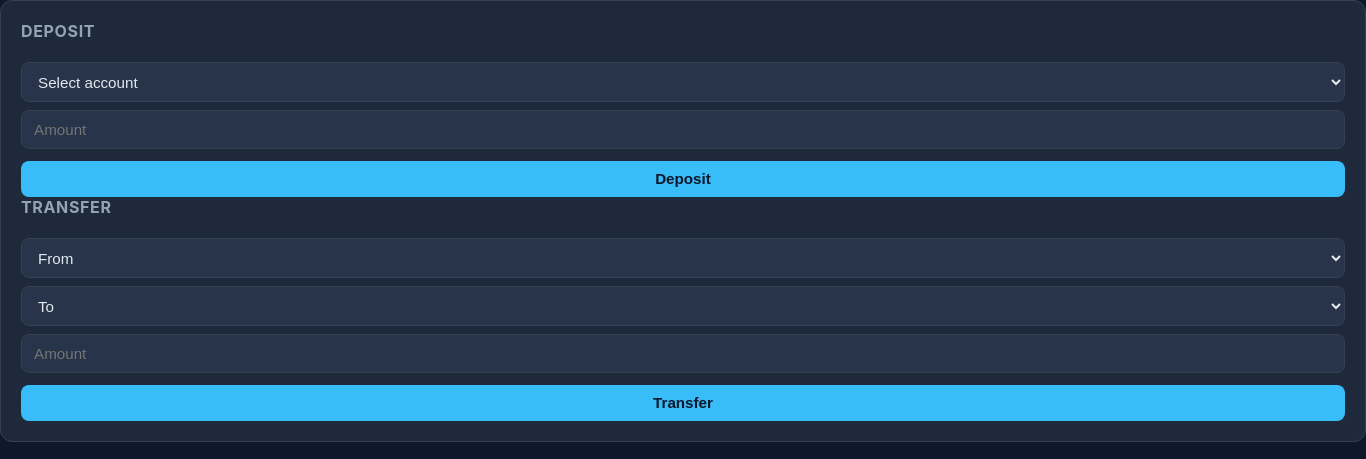
Test: ActionsPanel › deposit › deposits the amount into the selected account and clears the amount
Select "Bob" in the dropdown named "Account to deposit into" at [683, 82], box [21,62,1345,102]
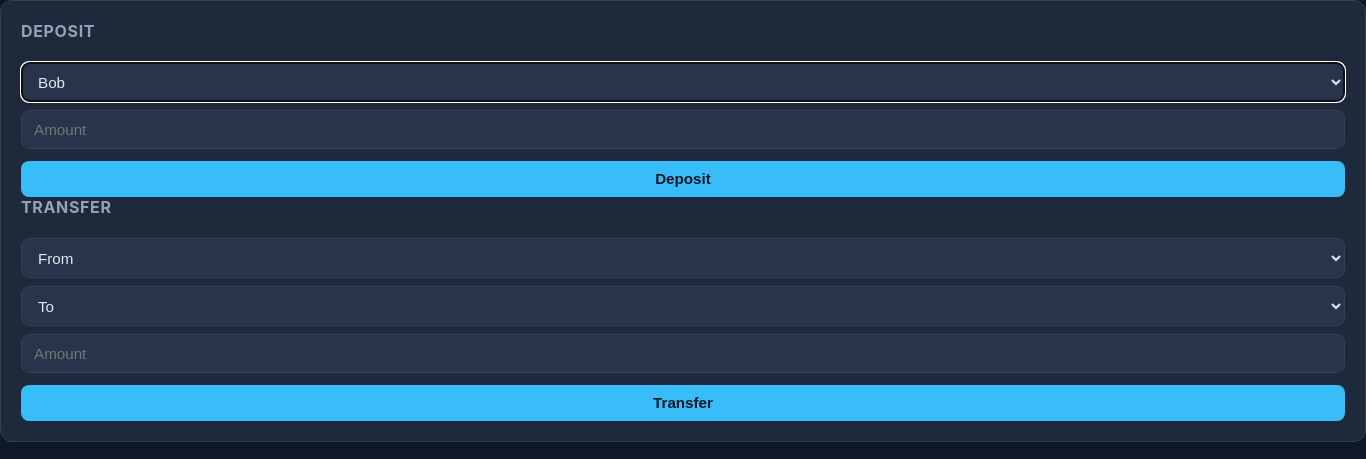
Type "25.50" into the 1st number field with placeholder "Amount" at [683, 130], box [21,110,1345,149]
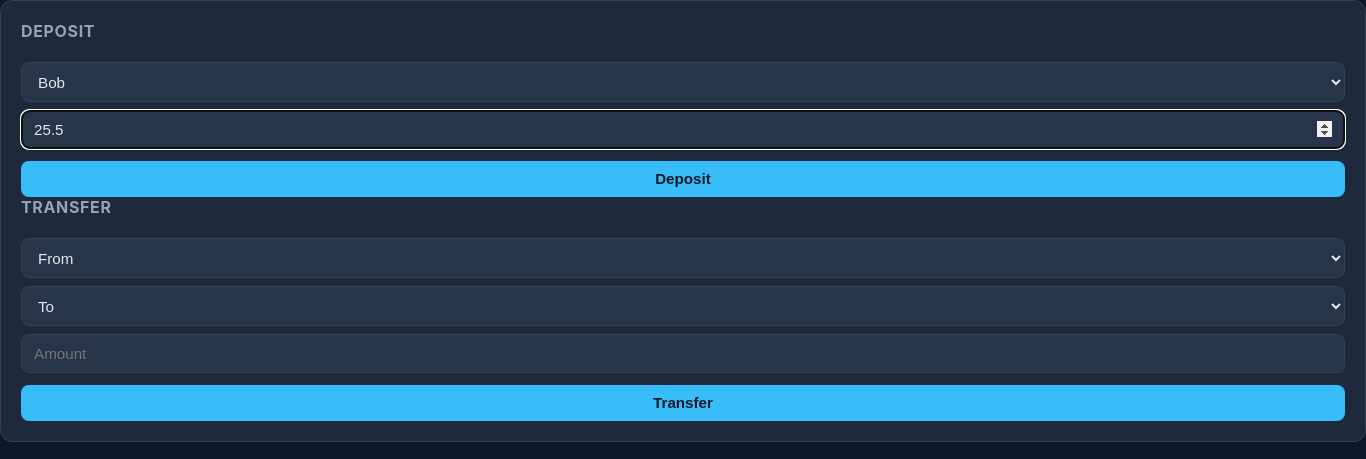
Click the button "Deposit" at [683, 179], box [21,161,1345,197]
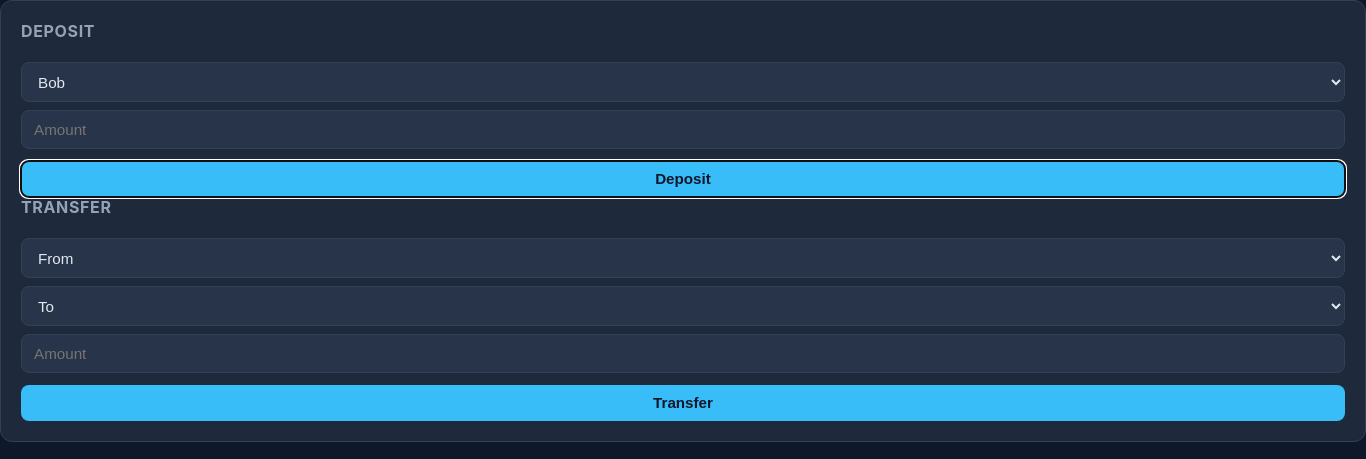
Result: the 1st number field with placeholder "Amount" is not empty at [21,110,1345,149]
